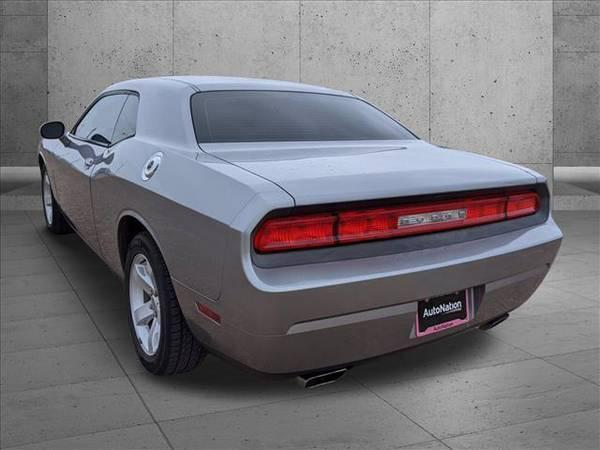Front_Left_Door: (48, 136, 108, 257)
Front_Left_Window: (68, 90, 133, 144)
Left_Taillight: (249, 205, 338, 252)
Rear_Bumper: (172, 210, 565, 372)
Rear_Fender: (97, 90, 296, 303)
Rear_Windshield: (191, 90, 419, 148)
Right_Taillight: (508, 185, 551, 221)
Roof: (102, 72, 356, 148)
Tailgate: (202, 139, 545, 242)
Wheel: (128, 237, 209, 378), (39, 172, 67, 228)
